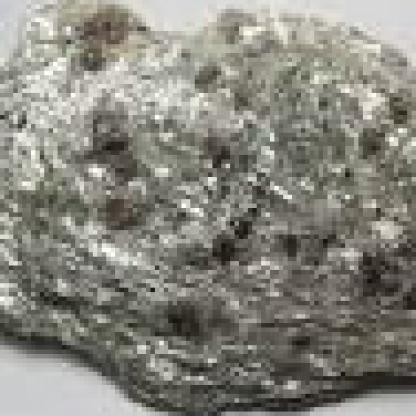Metamorphic_Marble: (0, 0, 412, 412)
